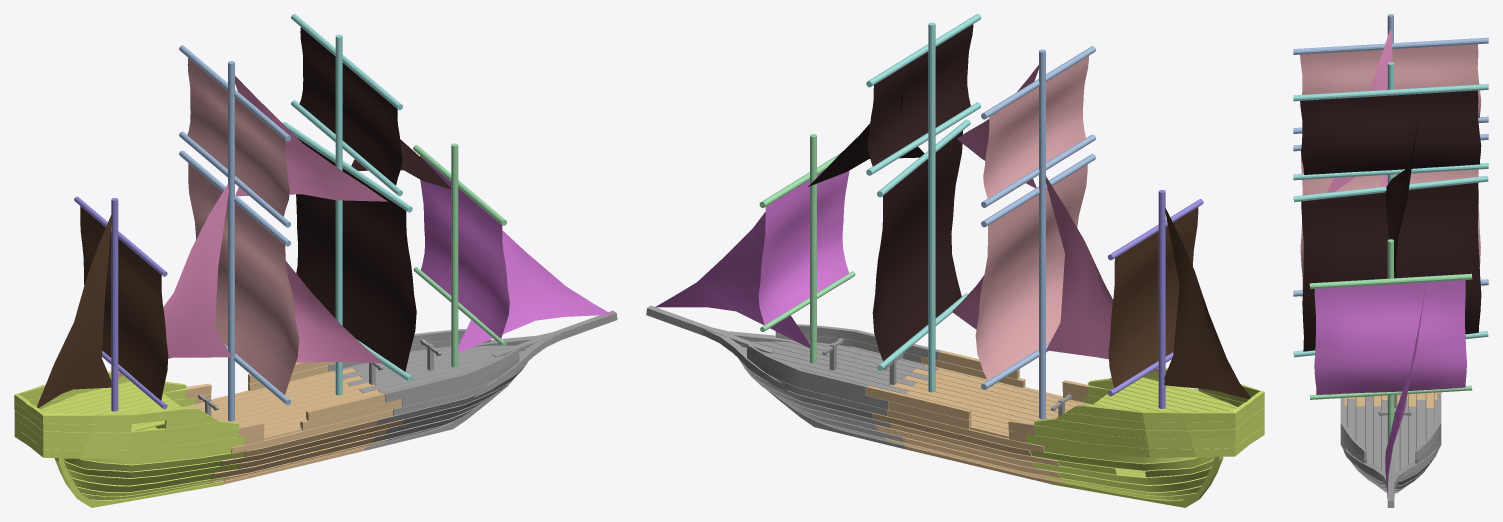
The model's file is shipwreck4.fbx.
3 renders of one model, left to right at view 1: azimuth 30°, elevation 25°; view 2: azimuth 150°, elevation 25°; view 3: azimuth 270°, elevation 25°, orthographic. The views are drawn at different scales.
Parts seen in each view (by area): view 1: polySurface333, polySurface324, polySurface342, polySurface341, polySurface128, polySurface330, polySurface337, polySurface325, pCylinder26, pCylinder25, pCylinder24, pCylinder27; view 2: polySurface324, polySurface333, polySurface342, polySurface128, polySurface325, polySurface337, polySurface330, polySurface341, pCylinder25, pCylinder26, pCylinder27, pCylinder24; view 3: polySurface333, polySurface330, polySurface342, polySurface325, pCylinder25, pCylinder24, pCylinder26, polySurface341, polySurface128.
Boxes of the visible parts, x1=… form: polySurface333: x1=296, y1=27, x2=451, y2=371; polySurface324: x1=14, y1=371, x2=245, y2=507; polySurface342: x1=187, y1=58, x2=299, y2=394; polySurface341: x1=118, y1=76, x2=387, y2=376; polySurface128: x1=182, y1=361, x2=404, y2=484; polySurface330: x1=420, y1=156, x2=611, y2=352; polySurface337: x1=37, y1=206, x2=168, y2=407; polySurface325: x1=328, y1=310, x2=617, y2=450; pCylinder26: x1=179, y1=45, x2=290, y2=421; pCylinder25: x1=282, y1=14, x2=412, y2=395; pCylinder24: x1=413, y1=143, x2=506, y2=367; pCylinder27: x1=74, y1=196, x2=167, y2=411; polySurface324: x1=1025, y1=367, x2=1264, y2=507; polySurface333: x1=808, y1=24, x2=973, y2=361; polySurface342: x1=975, y1=56, x2=1088, y2=380; polySurface128: x1=866, y1=350, x2=1092, y2=484; polySurface325: x1=646, y1=305, x2=940, y2=449; polySurface337: x1=1108, y1=207, x2=1250, y2=399; polySurface330: x1=655, y1=171, x2=850, y2=348; polySurface341: x1=952, y1=65, x2=1158, y2=372; pCylinder25: x1=866, y1=14, x2=981, y2=392; pCylinder26: x1=981, y1=46, x2=1095, y2=419; pCylinder27: x1=1108, y1=190, x2=1203, y2=408; pCylinder24: x1=759, y1=134, x2=855, y2=363; polySurface333: x1=1300, y1=90, x2=1481, y2=351; polySurface330: x1=1314, y1=280, x2=1466, y2=498; polySurface342: x1=1300, y1=44, x2=1481, y2=291; polySurface325: x1=1340, y1=394, x2=1441, y2=507; pCylinder25: x1=1293, y1=62, x2=1488, y2=357; pCylinder24: x1=1309, y1=239, x2=1472, y2=442; pCylinder26: x1=1293, y1=14, x2=1488, y2=296; polySurface341: x1=1327, y1=29, x2=1392, y2=192; polySurface128: x1=1344, y1=392, x2=1441, y2=410.
Size of the model in its own units: 43.94 by 29.94 by 13.83.
